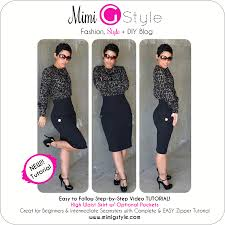F_tailored skirt: (96, 92, 135, 156), (48, 91, 88, 153), (150, 96, 178, 155)
